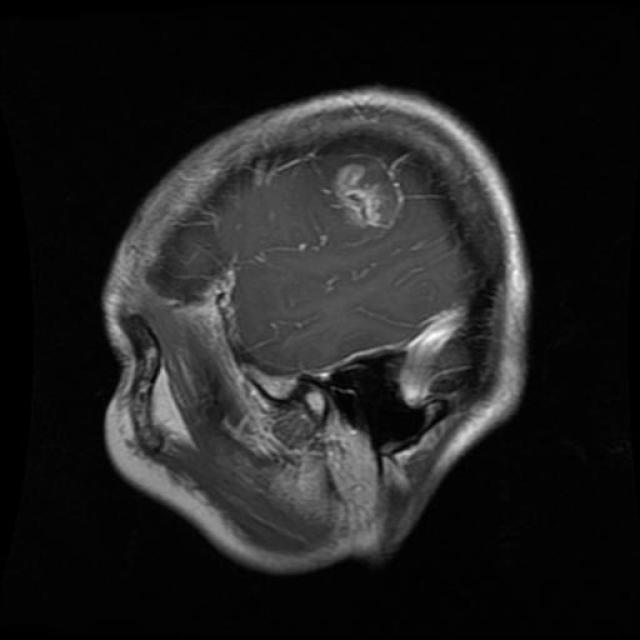glioma: (331, 163, 392, 227)
